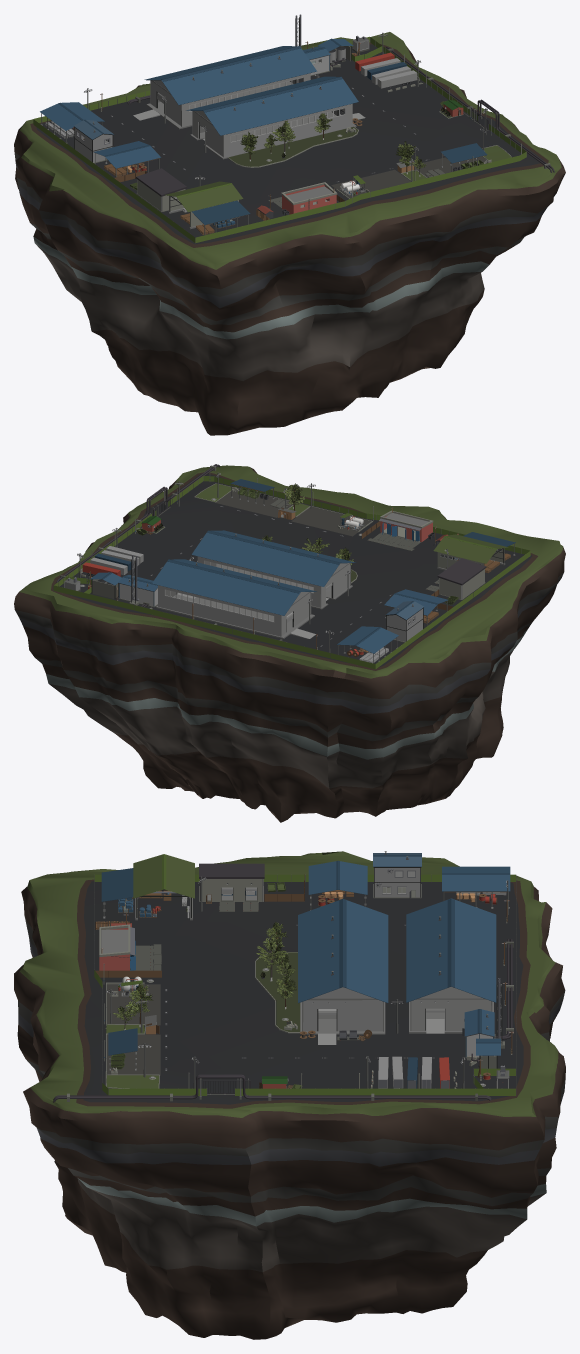
Rendered from low_poly_industrial_zone.glb.
3 renders of one model, top to bottom at view 1: azimuth 30°, elevation 25°; view 2: azimuth 150°, elevation 25°; view 3: azimuth 270°, elevation 25°, orthographic. The views are drawn at different scales.
Visible parts, largest first — view 1: Plane; view 2: Plane; view 3: Plane.
Boxes of the visible parts, x1=… form: Plane: x1=14, y1=14, x2=565, y2=435; Plane: x1=14, y1=464, x2=565, y2=822; Plane: x1=14, y1=851, x2=565, y2=1339.
Size of what is drawn, in the model's own units: 166 by 98.36 by 143.
Materials: 6 (6 with a texture image).
